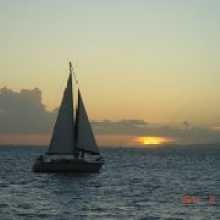fanchuan: (34, 60, 107, 173)
